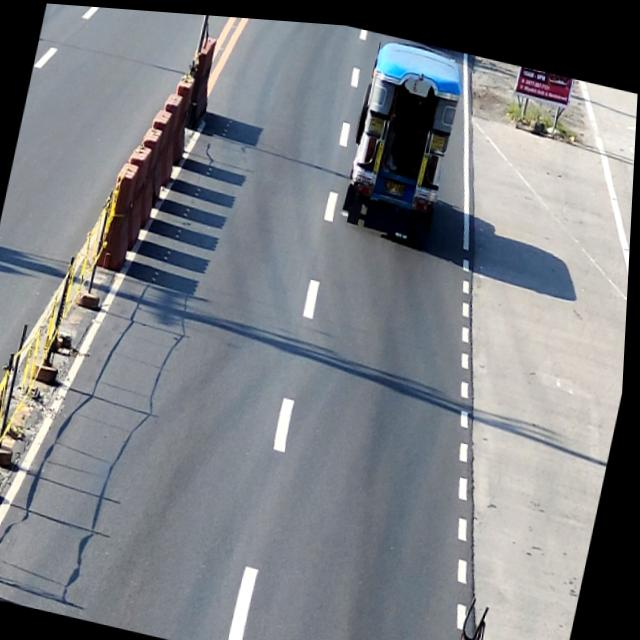Jeep: (337, 31, 471, 241)
License-Plate: (385, 174, 408, 191)
